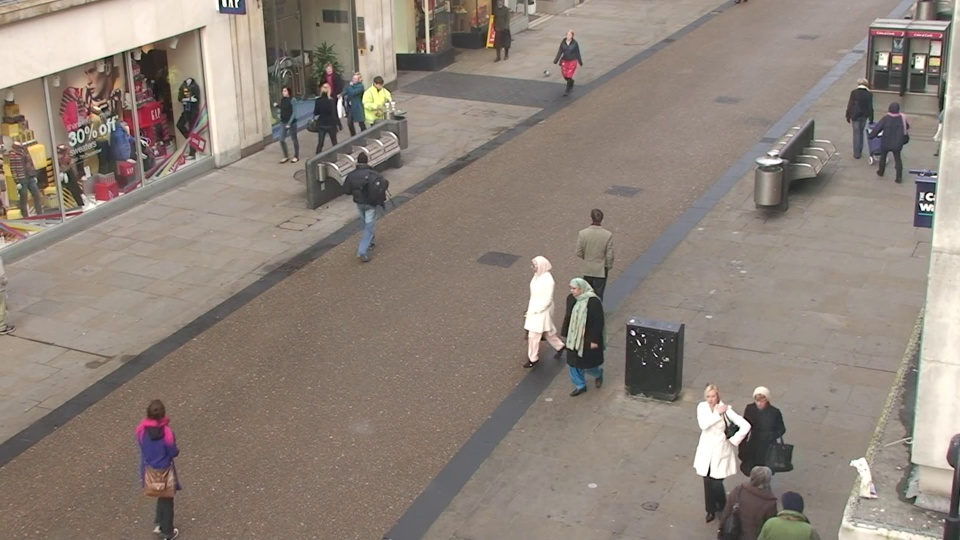pedestrian: (131, 387, 198, 540), (729, 375, 787, 540), (680, 374, 737, 536), (557, 271, 600, 408), (724, 450, 788, 540), (521, 248, 562, 380), (578, 203, 616, 323), (756, 473, 822, 540), (868, 99, 910, 194), (348, 147, 385, 251), (841, 73, 877, 160), (273, 81, 305, 166), (312, 80, 343, 164), (365, 73, 395, 157), (345, 68, 375, 150), (316, 60, 346, 139), (559, 27, 584, 98)
